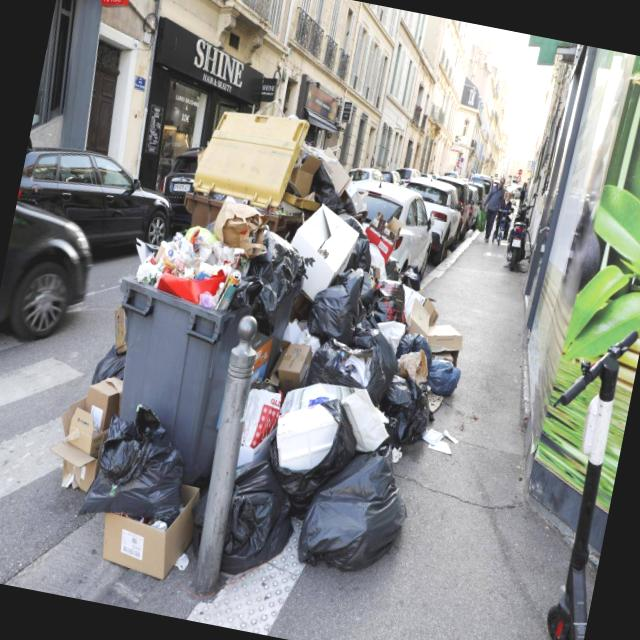garbage: (73, 79, 517, 640)
